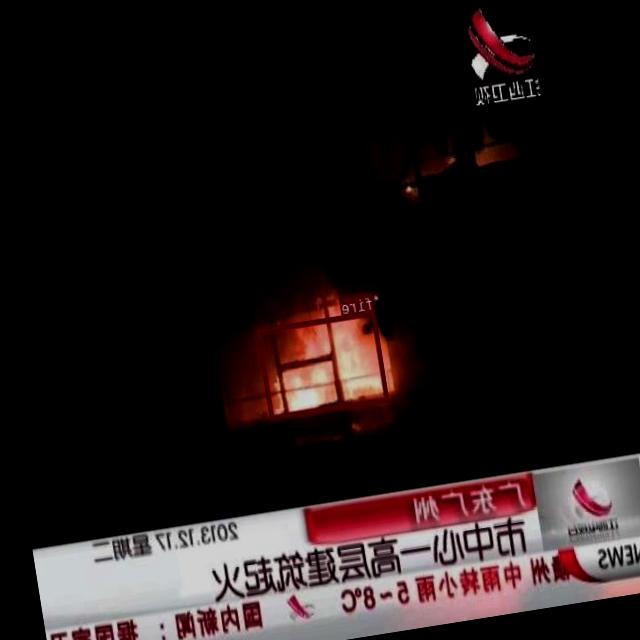fire: (257, 310, 390, 420)
